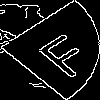F: (25, 25, 100, 81)
